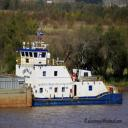tugboat: (14, 41, 124, 108)
